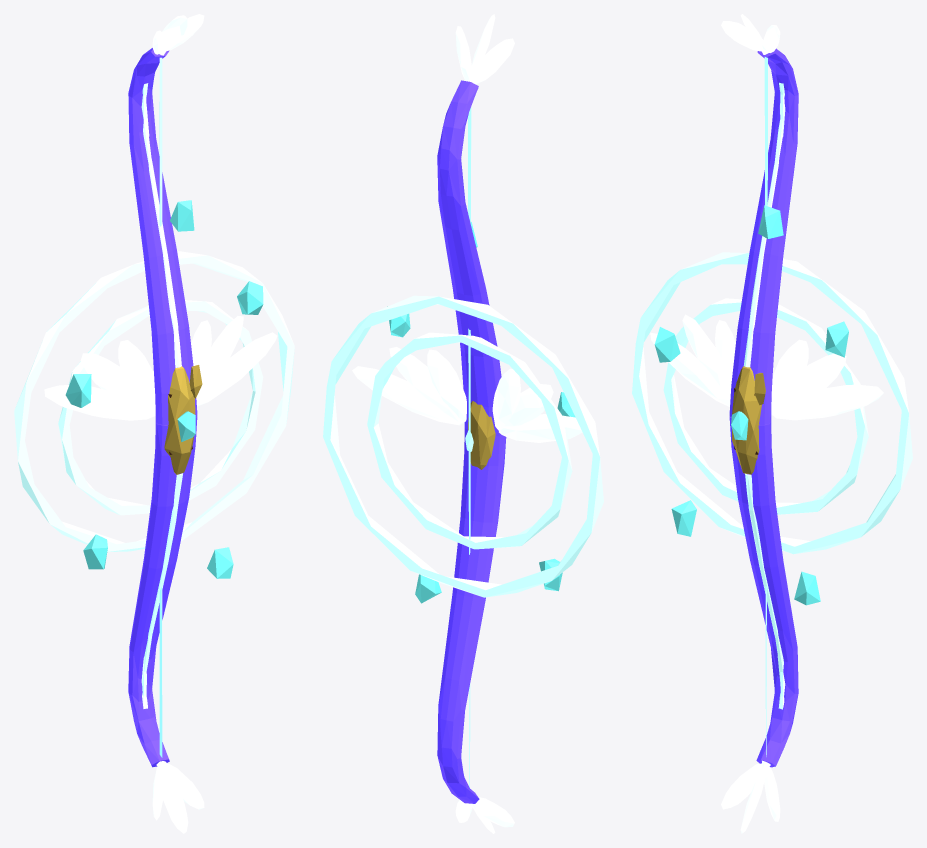
Rendered from bow_9.glb.
The picture shows the model from 3 angles, left to right: view 1: azimuth 30°, elevation 25°; view 2: azimuth 150°, elevation 25°; view 3: azimuth 330°, elevation 25°; orthographic projection.
Visible parts, largest first — view 1: part_01, part_31, part_06, part_30, part_13, part_24, part_27, part_25, part_22, part_28, part_11, part_23 (+10 smaller); view 2: part_31, part_06, part_01, part_30, part_27, part_29, part_28, part_13, part_24, part_26, part_11, part_25 (+4 smaller); view 3: part_31, part_01, part_06, part_30, part_27, part_13, part_28, part_22, part_24, part_25, part_23, part_29 (+11 smaller).
Boxes of the visible parts, x1=… form: part_01: x1=128, y1=48, x2=197, y2=424; part_31: x1=14, y1=251, x2=294, y2=551; part_06: x1=128, y1=417, x2=197, y2=767; part_30: x1=58, y1=300, x2=263, y2=515; part_13: x1=164, y1=366, x2=195, y2=474; part_24: x1=44, y1=385, x2=155, y2=420; part_27: x1=196, y1=332, x2=277, y2=406; part_25: x1=80, y1=353, x2=155, y2=415; part_22: x1=141, y1=83, x2=181, y2=367; part_28: x1=197, y1=316, x2=243, y2=394; part_11: x1=159, y1=57, x2=162, y2=757; part_23: x1=141, y1=473, x2=182, y2=708; part_31: x1=323, y1=295, x2=603, y2=597; part_06: x1=437, y1=428, x2=506, y2=803; part_01: x1=437, y1=80, x2=501, y2=436; part_30: x1=367, y1=332, x2=572, y2=549; part_27: x1=352, y1=366, x2=463, y2=425; part_29: x1=427, y1=349, x2=466, y2=421; part_28: x1=389, y1=347, x2=464, y2=423; part_13: x1=468, y1=401, x2=495, y2=469; part_24: x1=499, y1=414, x2=582, y2=442; part_26: x1=492, y1=368, x2=520, y2=430; part_11: x1=468, y1=107, x2=471, y2=787; part_25: x1=498, y1=384, x2=553, y2=431; part_31: x1=632, y1=252, x2=912, y2=554; part_01: x1=729, y1=48, x2=798, y2=424; part_06: x1=729, y1=417, x2=798, y2=767; part_30: x1=663, y1=298, x2=868, y2=514; part_27: x1=772, y1=384, x2=883, y2=420; part_13: x1=732, y1=366, x2=761, y2=474; part_28: x1=771, y1=353, x2=846, y2=415; part_22: x1=743, y1=82, x2=785, y2=367; part_24: x1=650, y1=332, x2=730, y2=406; part_25: x1=682, y1=314, x2=730, y2=395; part_23: x1=745, y1=473, x2=785, y2=709; part_29: x1=771, y1=339, x2=808, y2=413.
Size of the model in its own units: 0.5082 by 1.44 by 0.1735.
